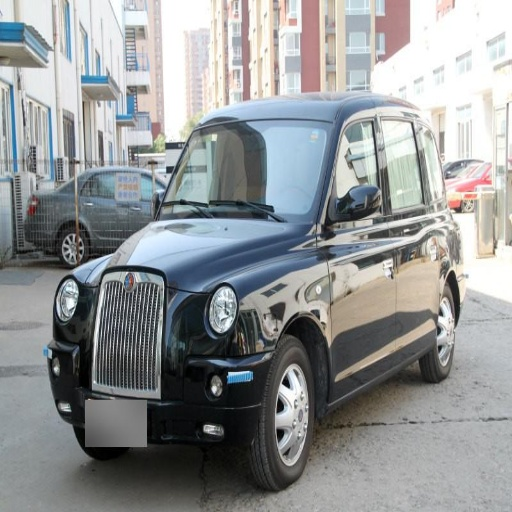front_bumper: (86, 268, 273, 442)
front_glass: (173, 124, 334, 219)
front_left_door: (327, 111, 405, 379)
